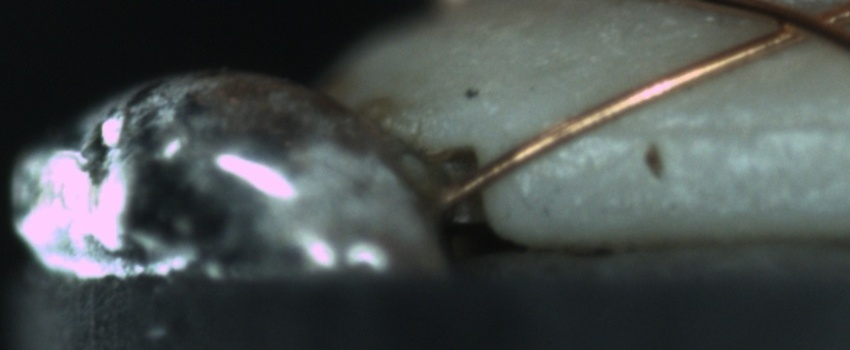CL: (753, 3, 843, 53)
DL: (577, 95, 845, 165)
